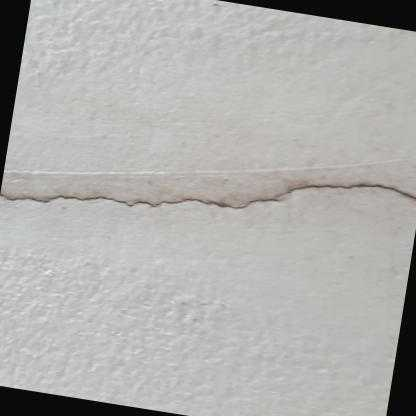crack: (0, 184, 416, 207)
